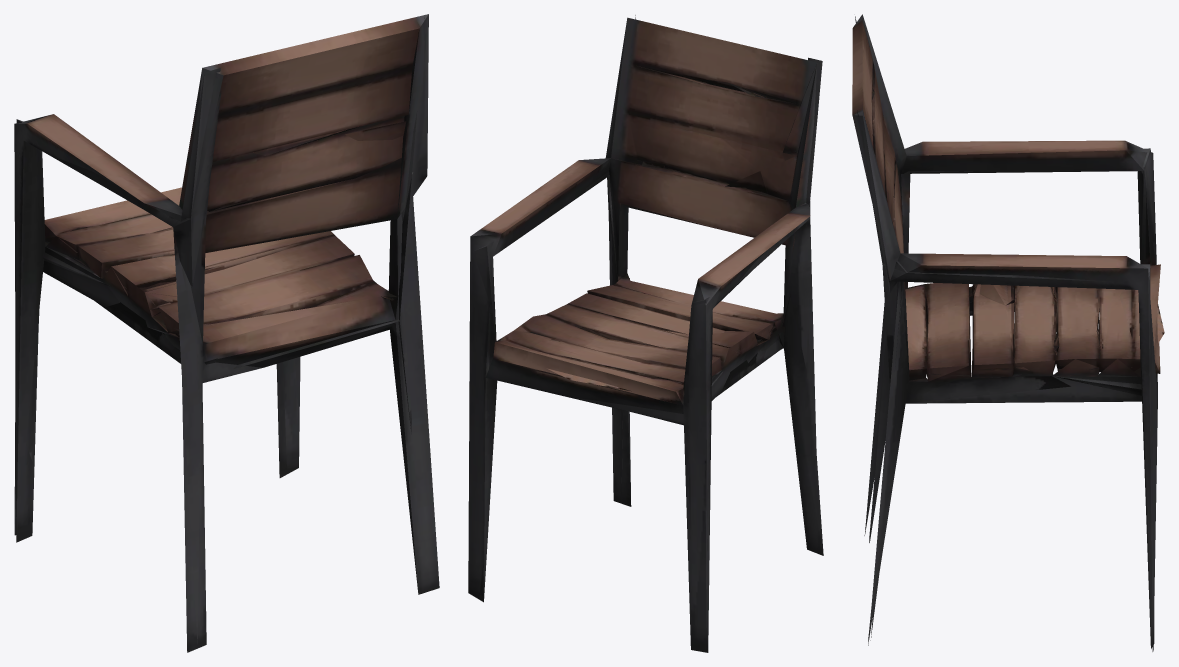
Rendered from seat_cafe-table_v2.glb.
3 views of the same model, side by side, from view 1: azimuth 30°, elevation 25°; view 2: azimuth 150°, elevation 25°; view 3: azimuth 270°, elevation 25° (orthographic). The views are drawn at different scales.
Parts seen in each view (by area): view 1: body; view 2: body; view 3: body.
Boxes of the visible parts, bbox=[...] form: body: bbox=[14, 14, 439, 652]; body: bbox=[468, 15, 823, 652]; body: bbox=[852, 14, 1164, 651].
Bounding box in the file's own units: 0.4655 × 0.9107 × 0.4838.
1 material, 1 textured.
